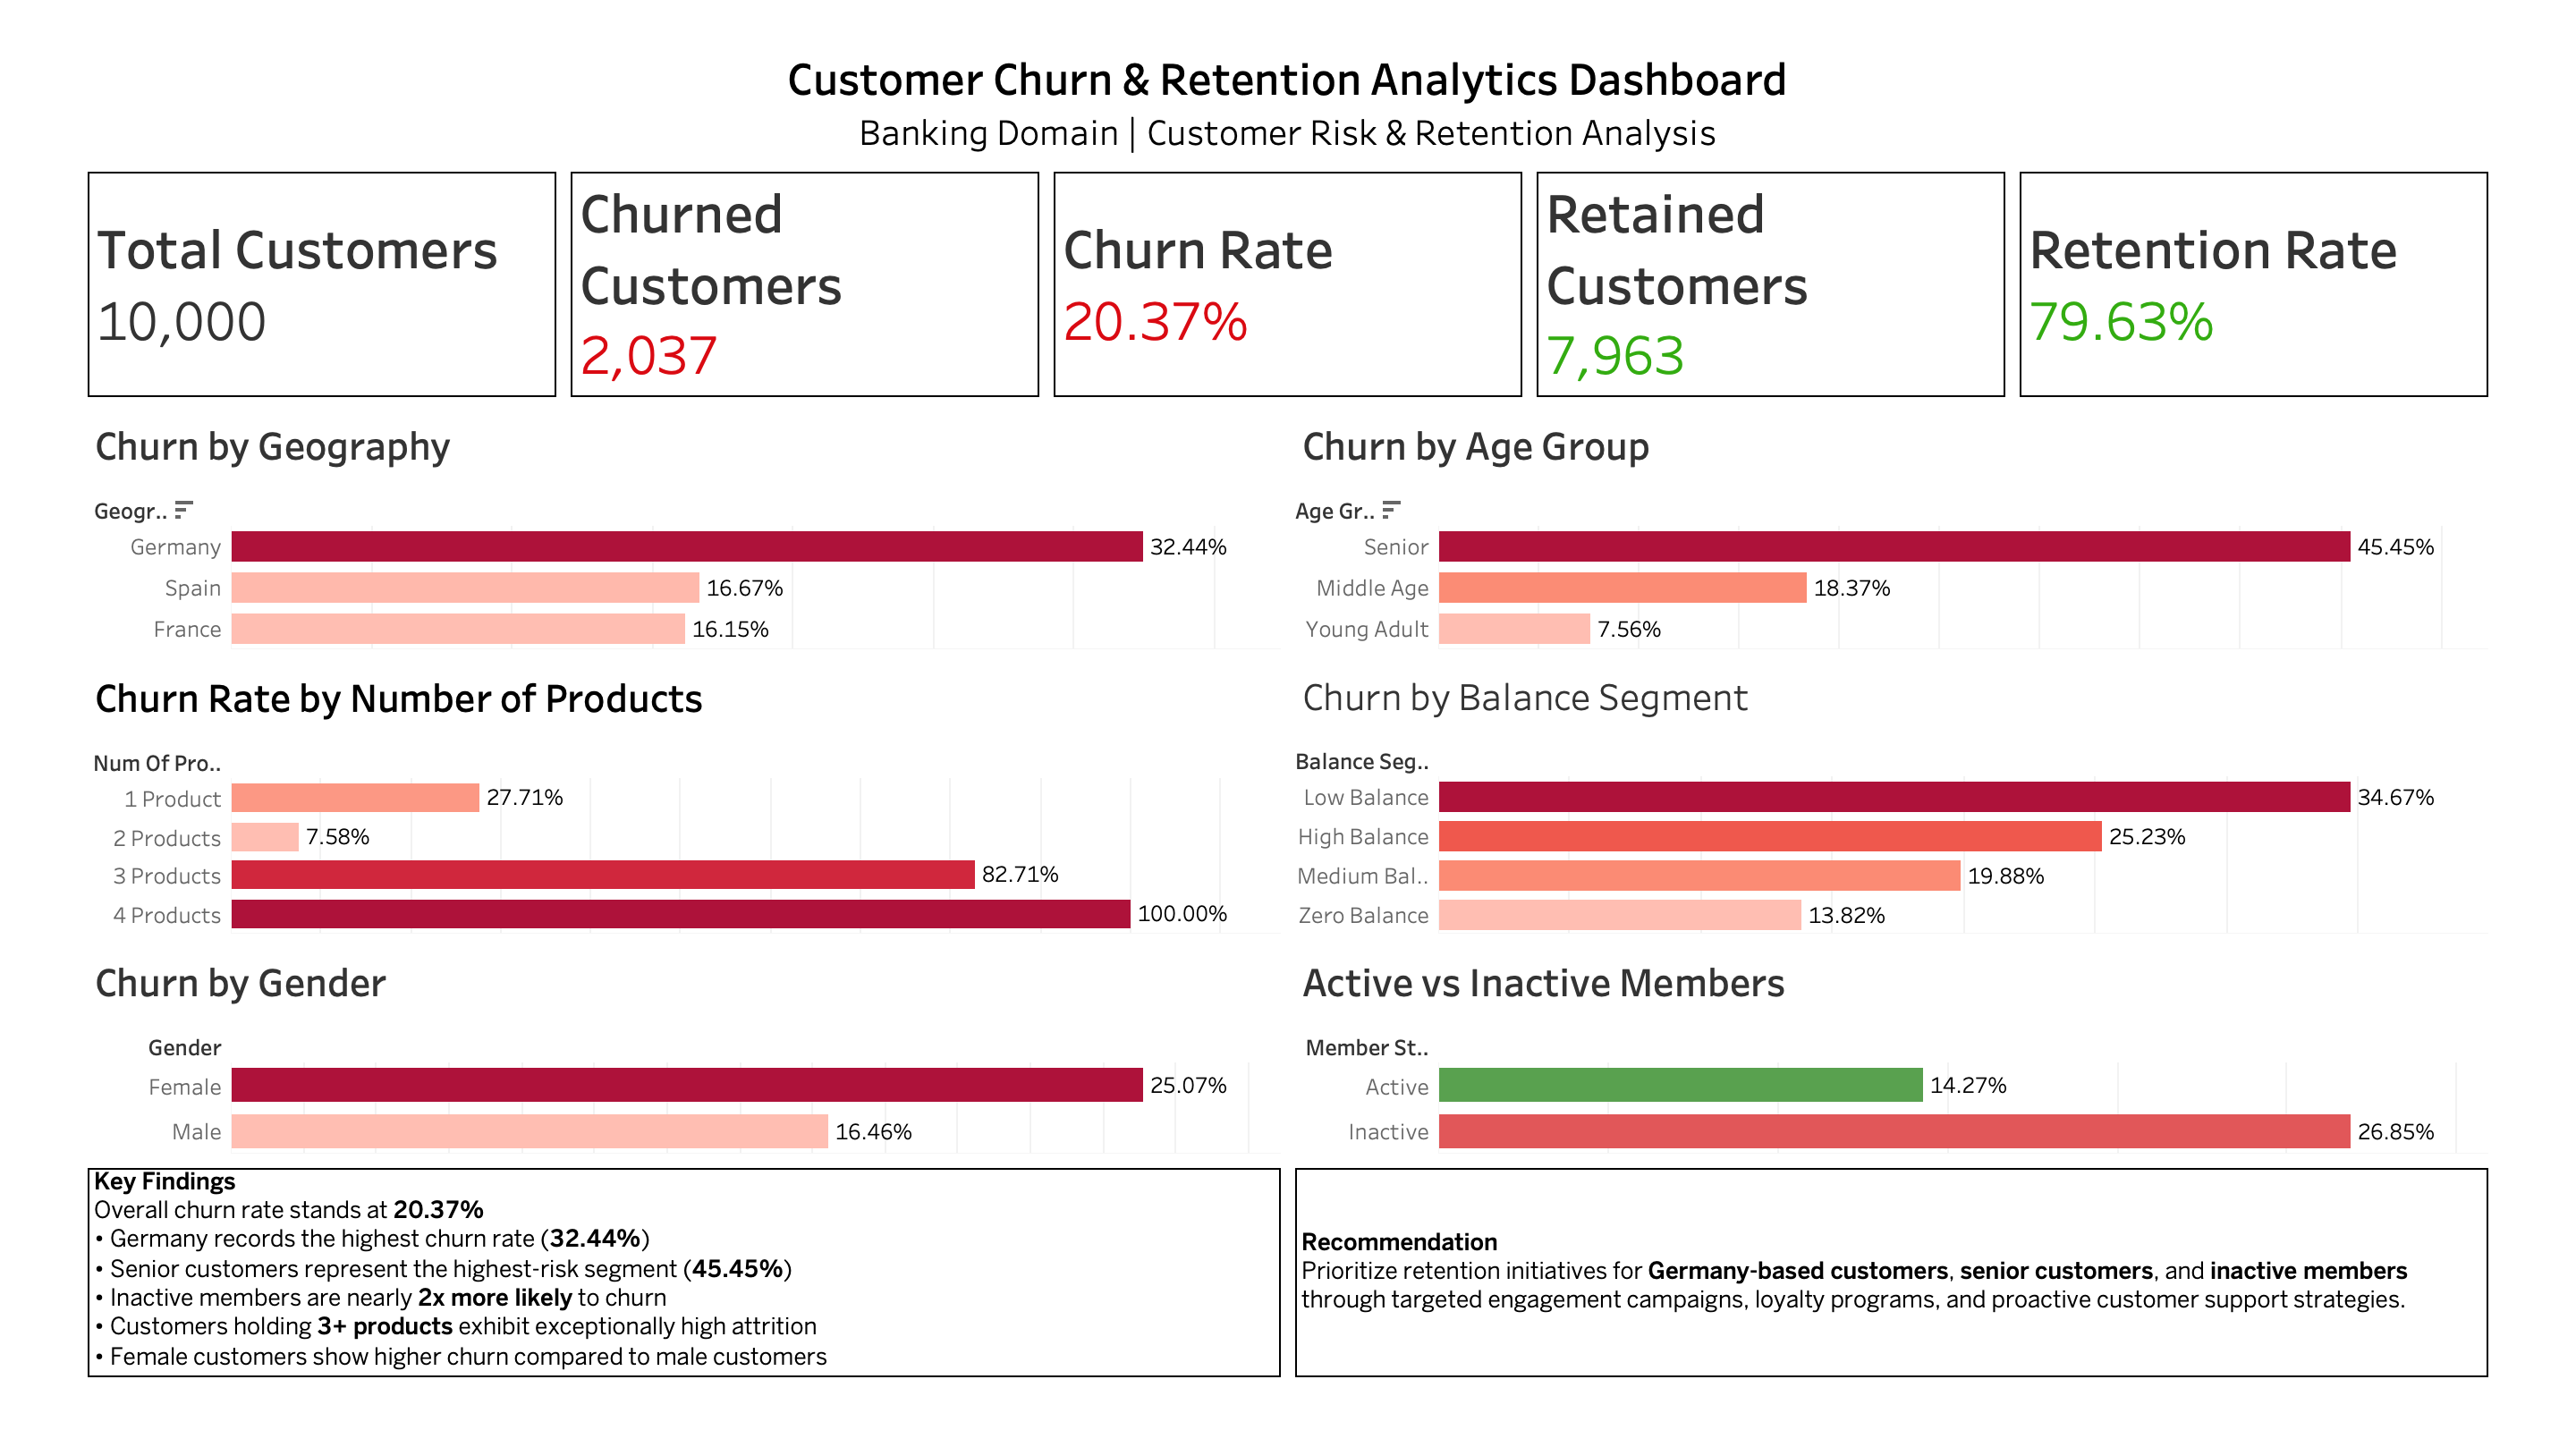

The dashboard page shown, as its layout file describes it:
{"tool":"tableau","page":{"name":"Customer Churn Overview","canvas":[1366,768],"ordinal":0},"visuals":[{"type":"text","box":[8,8,1350,70]},{"type":"worksheet","title":"KPI - Total Customers","mark":"Automatic","box":[8,78,270,134]},{"type":"worksheet","title":"KPI - Churned Customers","mark":"Automatic","box":[278,78,270,134]},{"type":"worksheet","title":"KPI - Churn Rate","mark":"Automatic","box":[548,78,270,134]},{"type":"worksheet","title":"KPI - Retained Customers","mark":"Automatic","box":[818,78,270,134]},{"type":"worksheet","title":"KPI - Retention Rate","mark":"Automatic","box":[1088,78,270,134]},{"type":"worksheet","title":"Churn by Geography","mark":"Automatic","rows":["Geography"],"cols":["Exited"],"box":[8,212,675,141]},{"type":"worksheet","title":"Churn by Age Group","mark":"Automatic","rows":["Age Group"],"cols":["Exited"],"box":[683,212,675,141]},{"type":"worksheet","title":"Churn by Products","mark":"Bar","rows":["NumOfProducts"],"cols":["Exited"],"box":[8,353,675,159]},{"type":"worksheet","title":"Churn by Balance Segment","mark":"Automatic","rows":["Balance Segment"],"cols":["Exited"],"box":[683,353,675,159]},{"type":"worksheet","title":"Churn by Gender","mark":"Automatic","rows":["Gender"],"cols":["Exited"],"box":[8,512,675,123]},{"type":"worksheet","title":"Active vs Inactive Members","mark":"Bar","rows":["Calculation_3465121910759429"],"cols":["Exited"],"box":[683,512,675,123]},{"type":"text","box":[8,635,675,125]},{"type":"text","box":[683,635,675,125]}]}

Visuals, with their boxes in screenshot pixels (x1, y1, x2, y2), scaled from the page's 1366x768 canvas onto the 2576x1447 screenshot:
text: detection(15, 15, 2561, 147)
"KPI - Total Customers" worksheet: detection(15, 147, 524, 400)
"KPI - Churned Customers" worksheet: detection(524, 147, 1033, 400)
"KPI - Churn Rate" worksheet: detection(1033, 147, 1543, 400)
"KPI - Retained Customers" worksheet: detection(1543, 147, 2052, 400)
"KPI - Retention Rate" worksheet: detection(2052, 147, 2561, 400)
"Churn by Geography" worksheet: detection(15, 400, 1288, 665)
"Churn by Age Group" worksheet: detection(1288, 400, 2561, 665)
"Churn by Products" worksheet (Bar marks): detection(15, 665, 1288, 965)
"Churn by Balance Segment" worksheet: detection(1288, 665, 2561, 965)
"Churn by Gender" worksheet: detection(15, 965, 1288, 1197)
"Active vs Inactive Members" worksheet (Bar marks): detection(1288, 965, 2561, 1197)
text: detection(15, 1197, 1288, 1432)
text: detection(1288, 1197, 2561, 1432)
